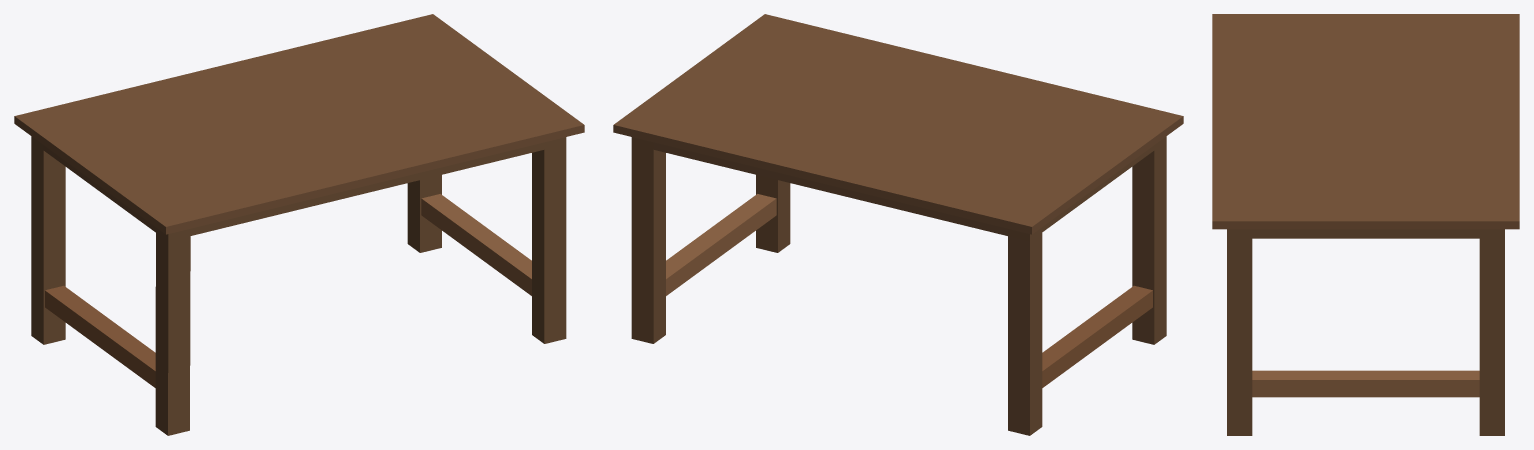
Rendered from Art room Table.fbx.
3 views of the same model, side by side, from view 1: azimuth 30°, elevation 25°; view 2: azimuth 150°, elevation 25°; view 3: azimuth 270°, elevation 25° (orthographic).
Visible parts, largest first — view 1: Cube.001, Cube.002, Cube.003, Cube; view 2: Cube.001, Cube.002, Cube.003, Cube; view 3: Cube.001, Cube.002, Cube.
Part boxes in pixels (box(x1,y1,x2,y2)): Cube.001: box(14, 14, 584, 234); Cube.002: box(31, 136, 566, 435); Cube.003: box(45, 285, 155, 387); Cube: box(421, 194, 531, 295); Cube.001: box(613, 14, 1183, 234); Cube.002: box(631, 136, 1166, 435); Cube.003: box(1042, 285, 1152, 387); Cube: box(666, 194, 776, 295); Cube.001: box(1212, 14, 1519, 229); Cube.002: box(1227, 229, 1504, 435); Cube: box(1252, 370, 1479, 397).
Size of the model in its own units: 825 by 408 by 517.
